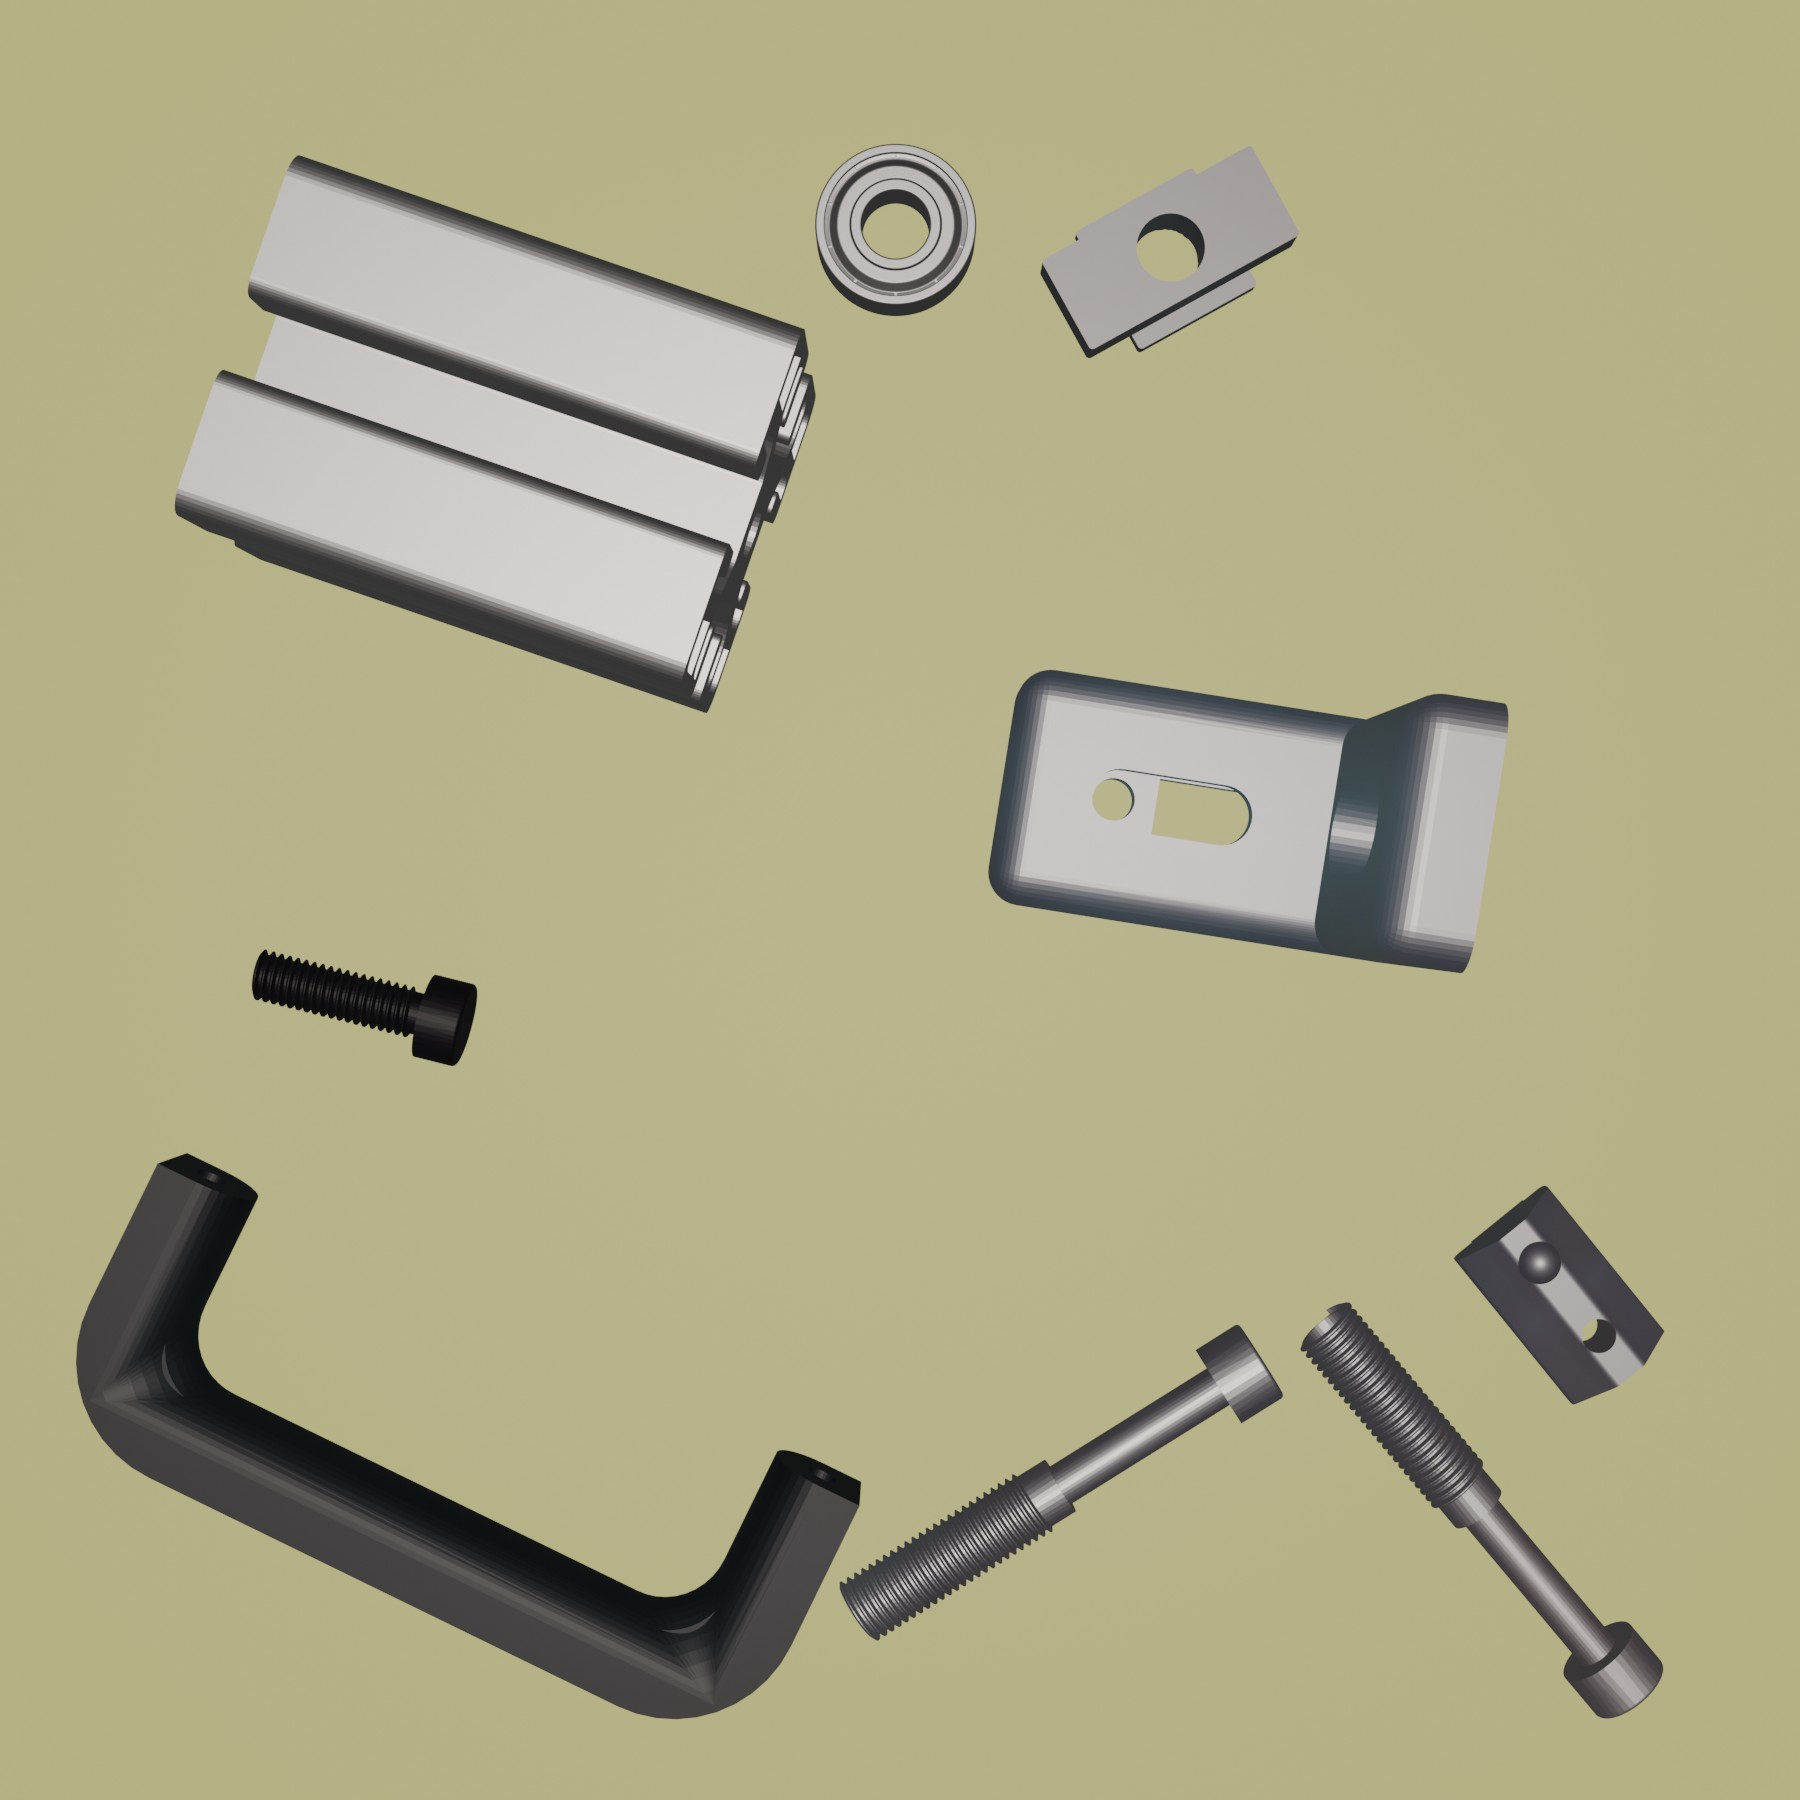Aluminium Extension: (170, 148, 818, 719)
Ball Bearing: (808, 142, 977, 318)
Multiwinkel: (986, 666, 1512, 976)
Pull Handle: (74, 1149, 864, 1719)
Shoulder Socket Head Cap Screw: (1296, 1297, 1665, 1719), (839, 1319, 1286, 1643)
Socket Head Cap Screw: (251, 948, 480, 1068)
T Nut Square: (1037, 142, 1301, 363)
T Spring Nut: (1451, 1180, 1665, 1408)
